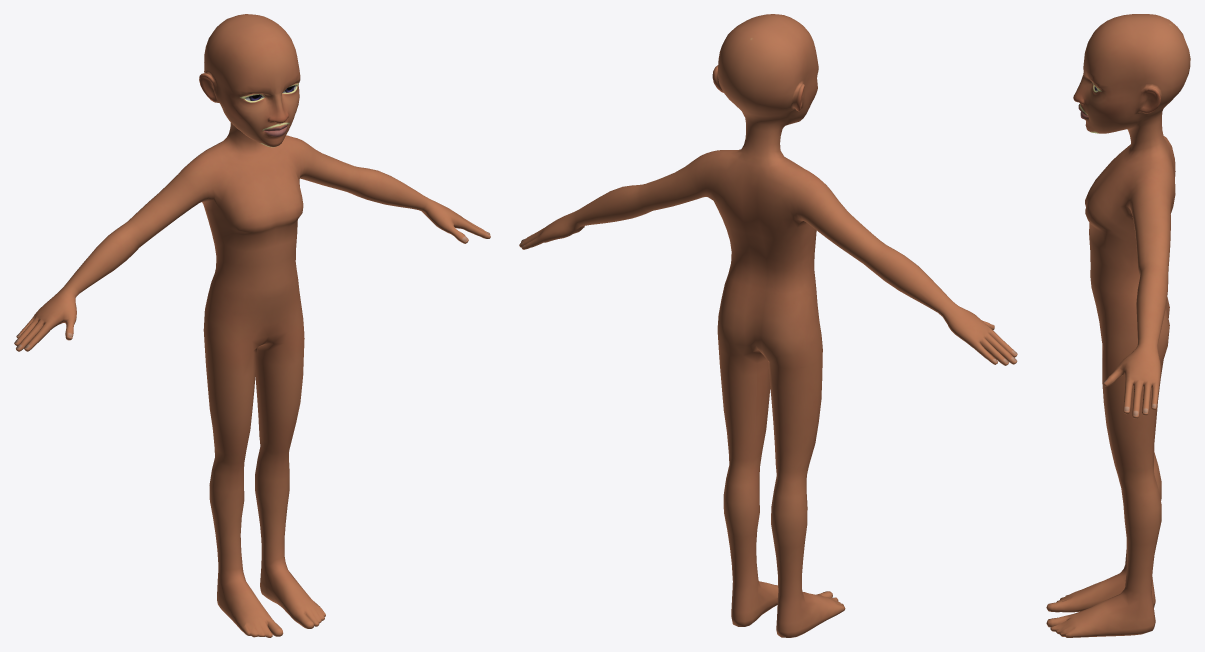
Rendered from frame_0039.glb.
The picture shows the model from 3 angles, left to right: view 1: azimuth 30°, elevation 25°; view 2: azimuth 150°, elevation 25°; view 3: azimuth 270°, elevation 25°; orthographic projection. The views are drawn at different scales.
Visible parts, largest first — view 1: frame_0039_head_geo; view 2: frame_0039_head_geo; view 3: frame_0039_head_geo.
Part boxes in pixels (x1,y1,x2,y2): frame_0039_head_geo: (14, 14, 490, 637); frame_0039_head_geo: (519, 14, 1017, 637); frame_0039_head_geo: (1046, 14, 1190, 637).
Bounding box in the file's own units: 1.28 × 1.5 × 0.3253.
Materials: 3 (3 with a texture image).
